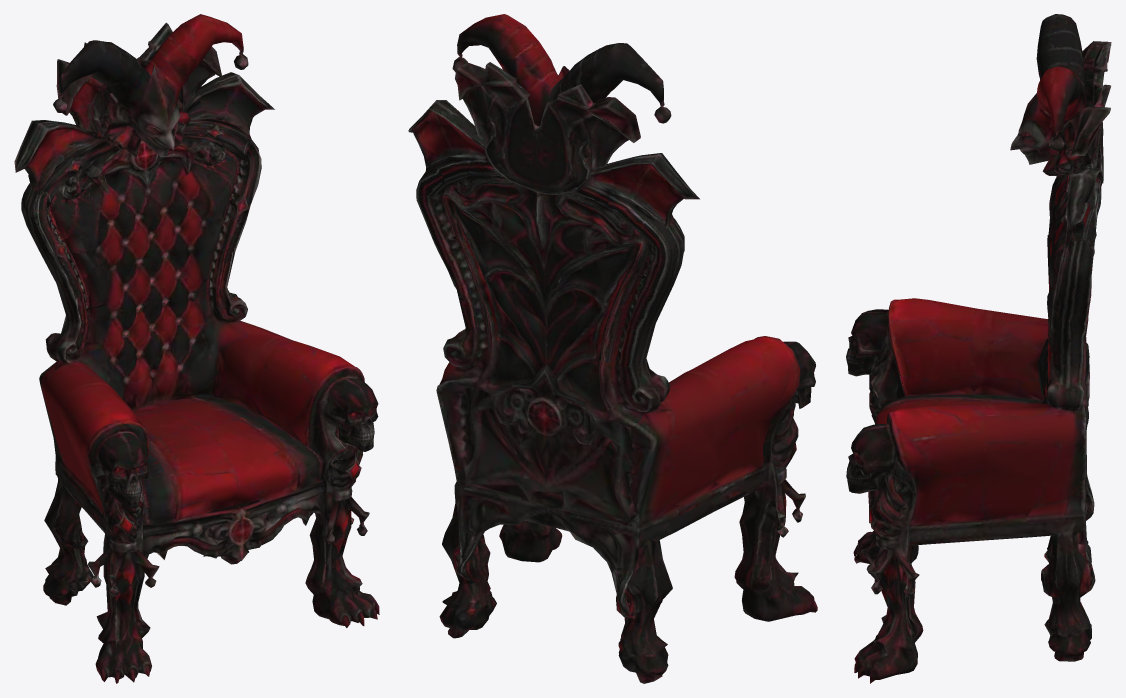
The model's file is jesterThrone.glb.
3 renders of one model, left to right at view 1: azimuth 30°, elevation 25°; view 2: azimuth 150°, elevation 25°; view 3: azimuth 270°, elevation 25°, orthographic. The views are drawn at different scales.
Size of the model in its own units: 0.9927 by 1.9 by 0.7958.
Materials: 1 (1 with a texture image).
